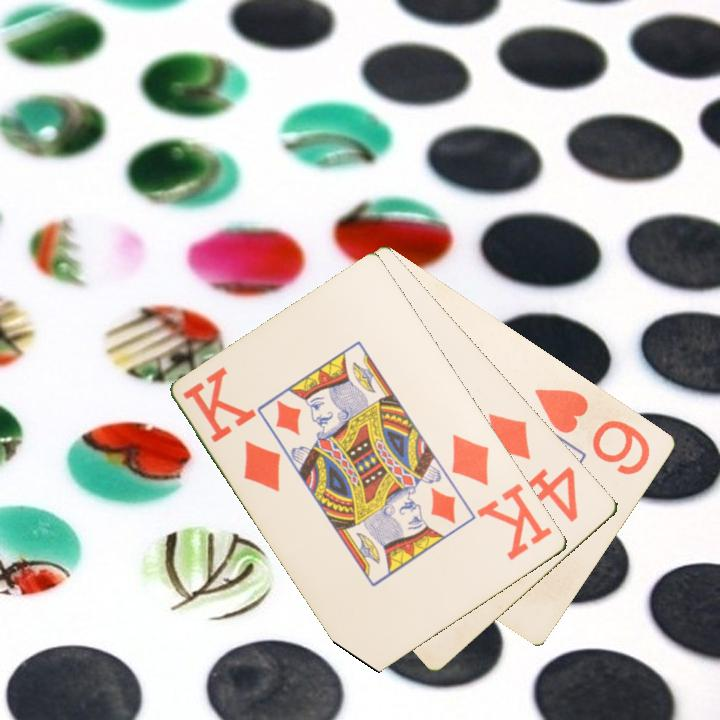4d: (485, 409, 582, 525)
6h: (531, 384, 654, 478)
Kd: (448, 430, 556, 564), (179, 364, 285, 495)
